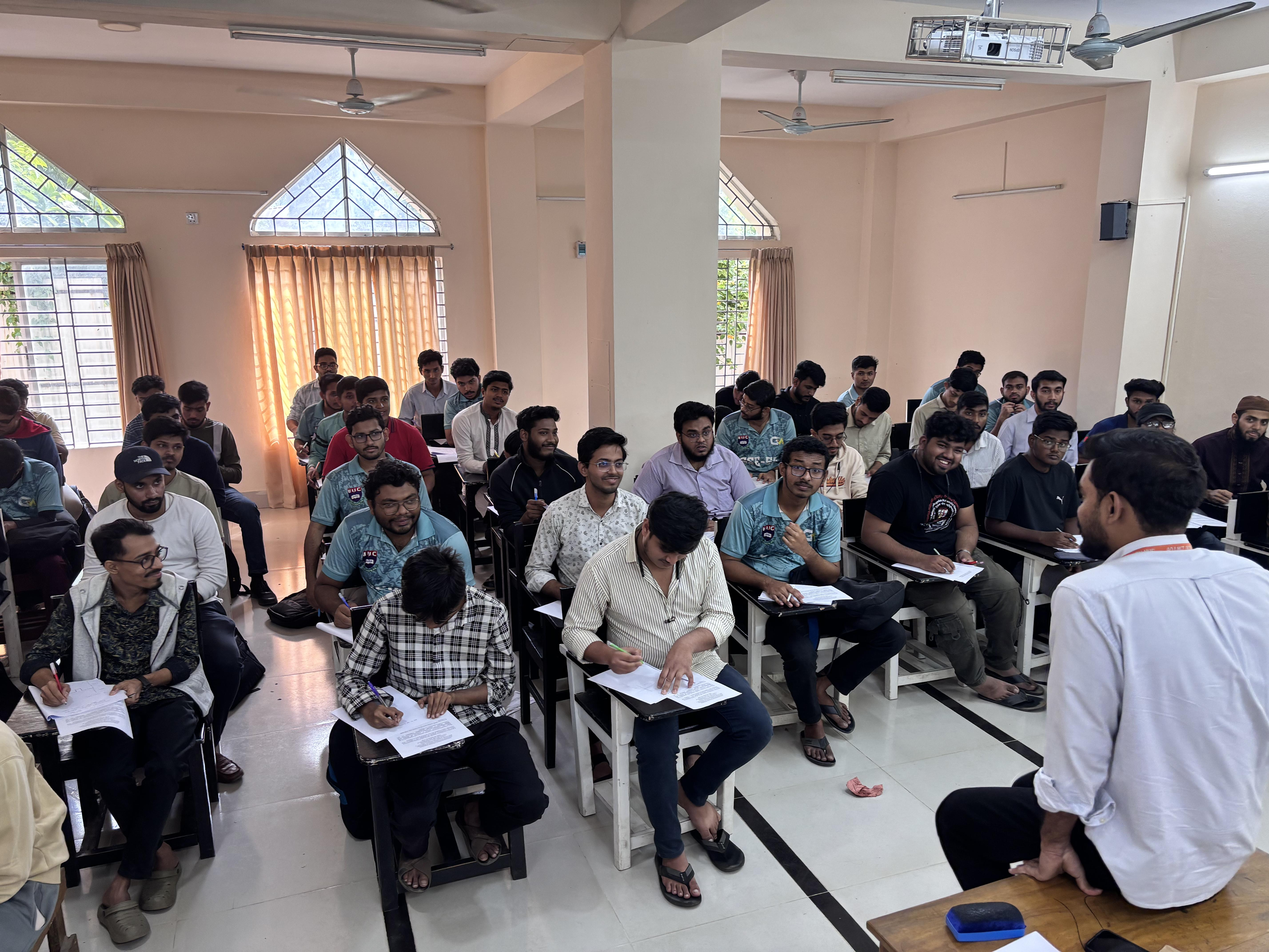invigilator: (1044, 425, 1257, 924)
no_cheating: (338, 559, 530, 797), (569, 499, 747, 730), (731, 442, 858, 640), (879, 417, 994, 629), (529, 425, 646, 568), (310, 466, 451, 565), (1004, 414, 1081, 565), (664, 409, 746, 505), (309, 417, 393, 489), (1209, 407, 1269, 497), (460, 370, 522, 457), (794, 400, 861, 465), (333, 381, 414, 433), (177, 376, 236, 441), (909, 366, 966, 429), (138, 418, 199, 474), (832, 388, 895, 442), (407, 349, 456, 416), (782, 361, 829, 423), (955, 400, 995, 459), (1018, 367, 1069, 412), (317, 376, 361, 419), (991, 366, 1025, 417), (302, 344, 347, 380), (1133, 402, 1177, 432)
side_talking: (720, 386, 791, 465)
suspicious_moving: (29, 518, 217, 792), (87, 450, 196, 542), (503, 401, 574, 505), (843, 354, 900, 403), (442, 357, 484, 409)
